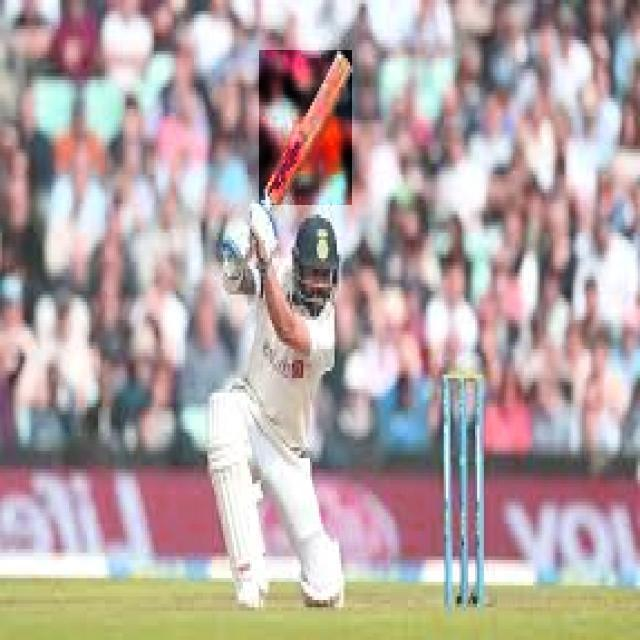bat: (263, 51, 355, 205)
toe: (338, 50, 354, 78)
